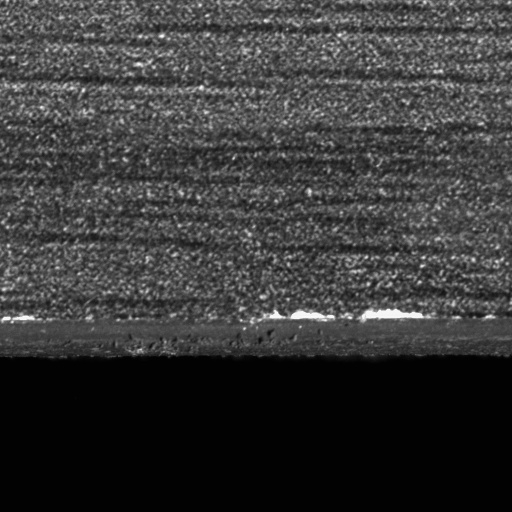huashang: (269, 309, 335, 323), (360, 309, 424, 322)
